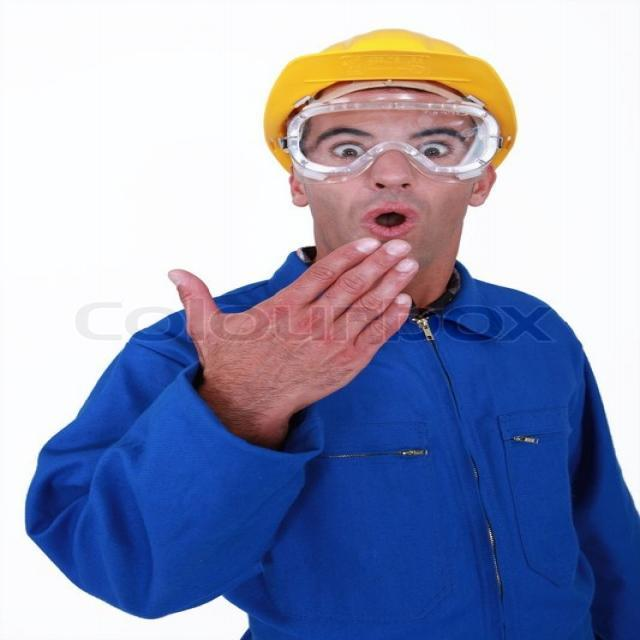Helmet: (263, 35, 528, 166)
